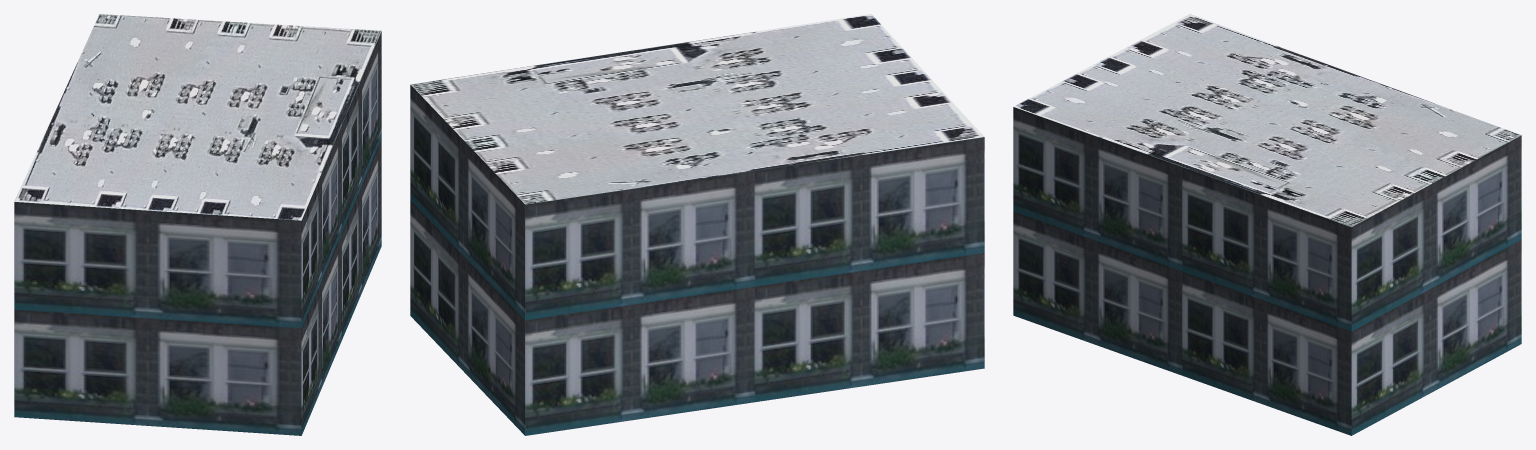
File: ResTex__5187.fbx
The picture shows the model from 3 angles, left to right: view 1: azimuth 30°, elevation 25°; view 2: azimuth 150°, elevation 25°; view 3: azimuth 270°, elevation 25°; orthographic projection. The views are drawn at different scales.
Visible parts, largest first — view 1: CityEngineMaterial_11_m, CityEngineMaterial_8_m; view 2: CityEngineMaterial_11_m, CityEngineMaterial_8_m; view 3: CityEngineMaterial_11_m, CityEngineMaterial_8_m.
Boxes of the visible parts, box(x1,y1,x2,y2) form: CityEngineMaterial_11_m: box(14, 31, 381, 435); CityEngineMaterial_8_m: box(14, 14, 381, 220); CityEngineMaterial_11_m: box(410, 85, 984, 435); CityEngineMaterial_8_m: box(410, 14, 983, 204); CityEngineMaterial_11_m: box(1013, 107, 1521, 435); CityEngineMaterial_8_m: box(1013, 14, 1521, 226).
Size of the model in its own units: 13.15 by 6 by 13.25.
2 materials, 2 textured.
